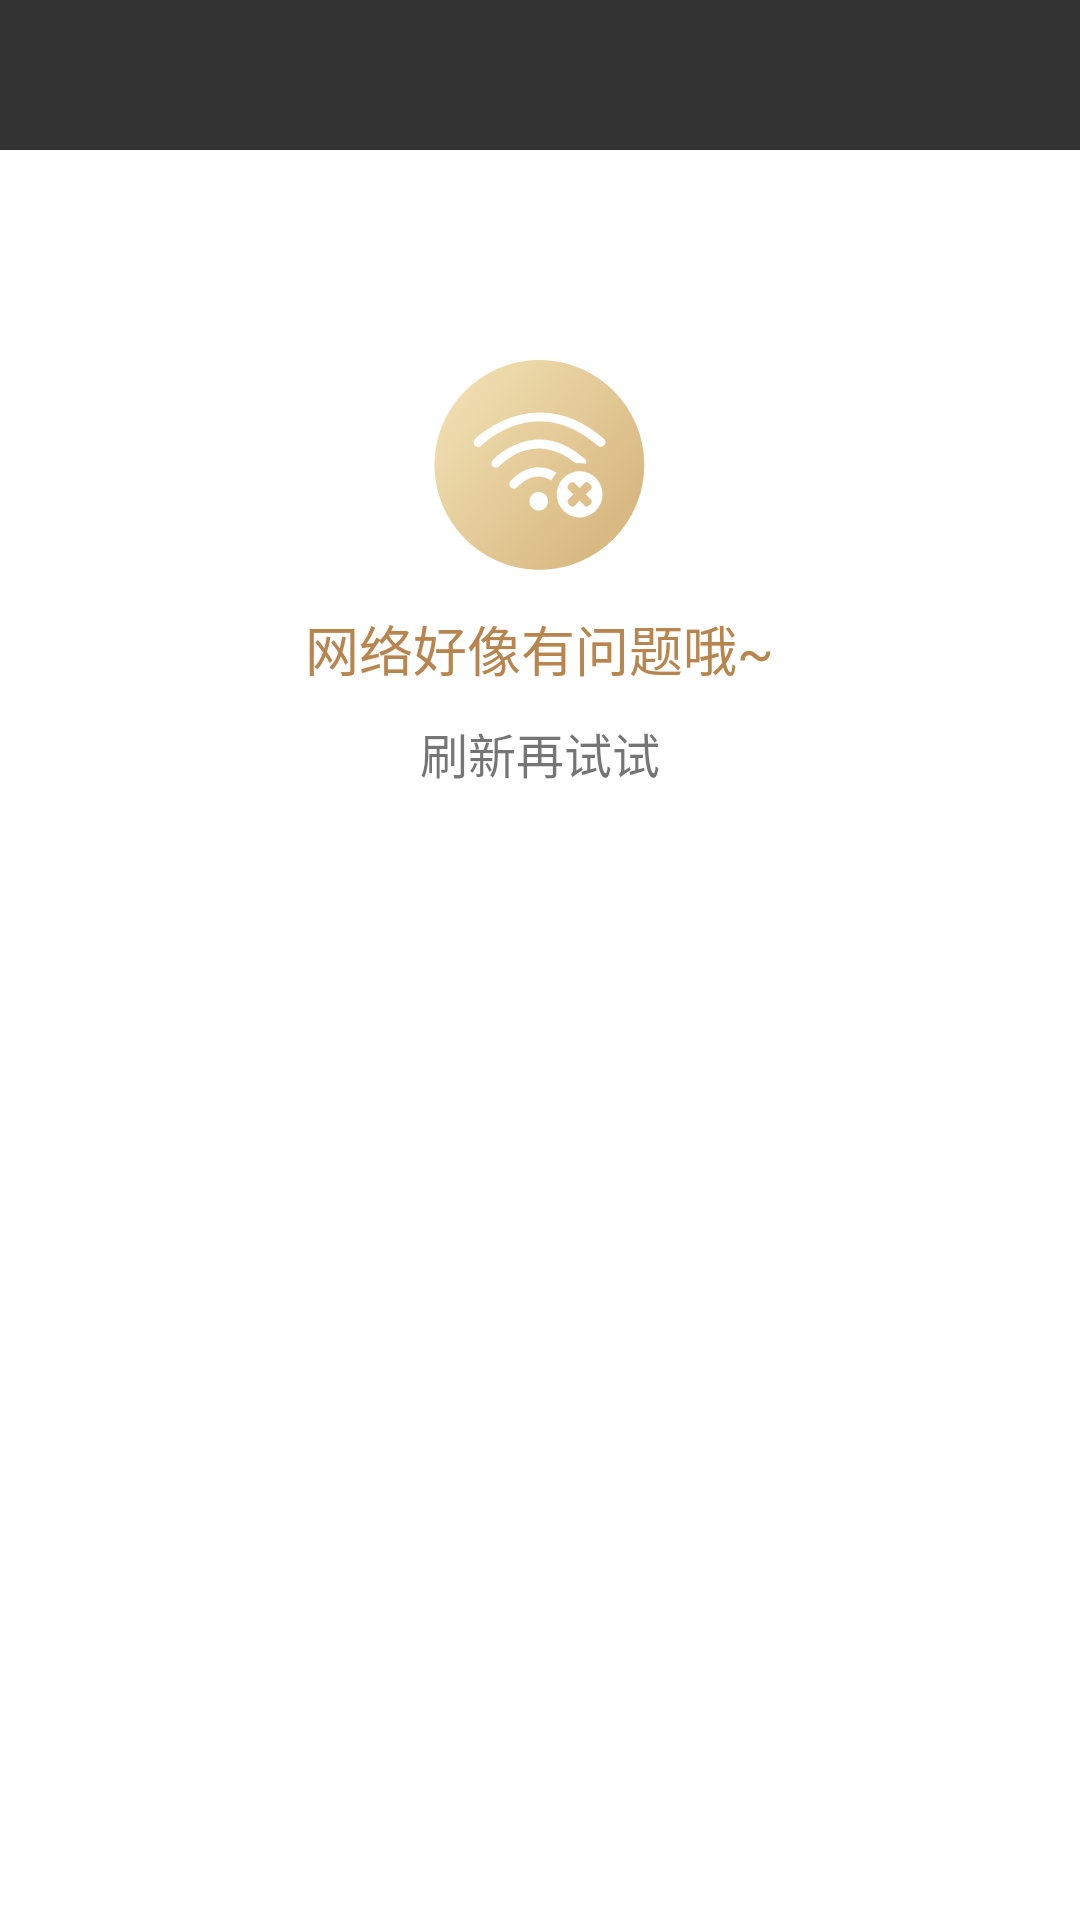

Point at icon controls on the screen. Image size 1080px×1920px, points as [x,y].
network: [539,465]
